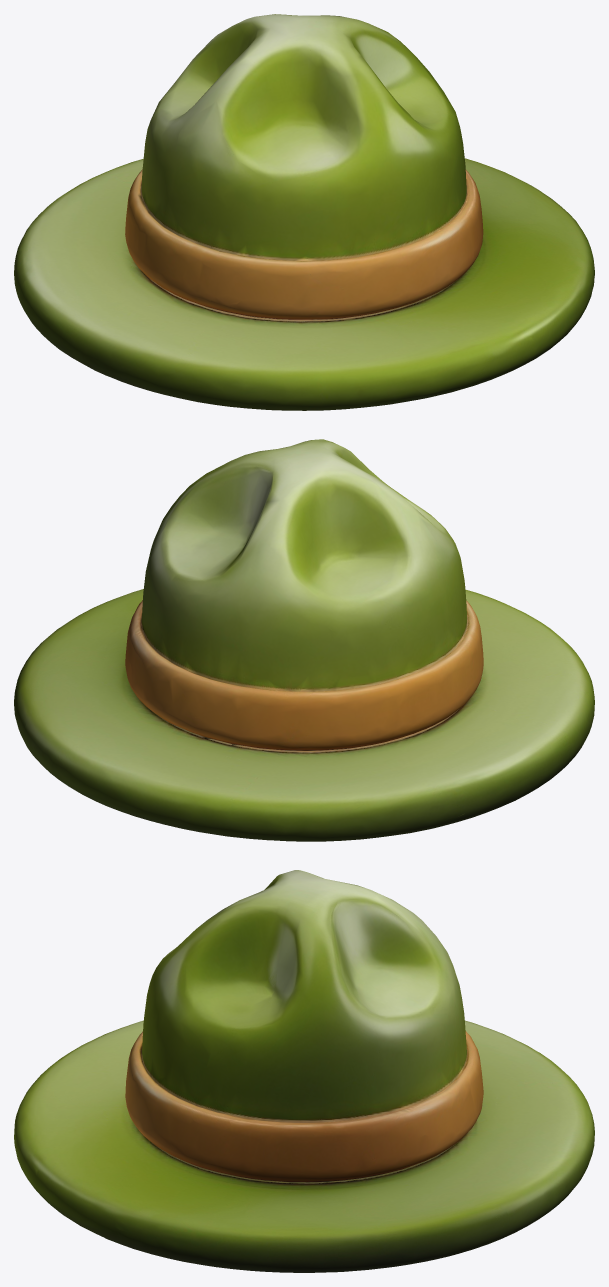
The model's file is cs-ranger-hat.glb.
3 views of the same model, one above another, from view 1: azimuth 30°, elevation 25°; view 2: azimuth 150°, elevation 25°; view 3: azimuth 270°, elevation 25° (orthographic).
Visible parts, largest first — view 1: tripo_node_1ad53f93-45f1-4504-b10e-20e0ccf0af55; view 2: tripo_node_1ad53f93-45f1-4504-b10e-20e0ccf0af55; view 3: tripo_node_1ad53f93-45f1-4504-b10e-20e0ccf0af55.
Boxes of the visible parts, box(x1,y1,x2,y2) form: tripo_node_1ad53f93-45f1-4504-b10e-20e0ccf0af55: box(14, 14, 594, 410); tripo_node_1ad53f93-45f1-4504-b10e-20e0ccf0af55: box(14, 439, 594, 841); tripo_node_1ad53f93-45f1-4504-b10e-20e0ccf0af55: box(14, 870, 594, 1272).
Bounding box in the file's own units: 1 × 0.5261 × 0.9985.
1 material, 1 textured.
